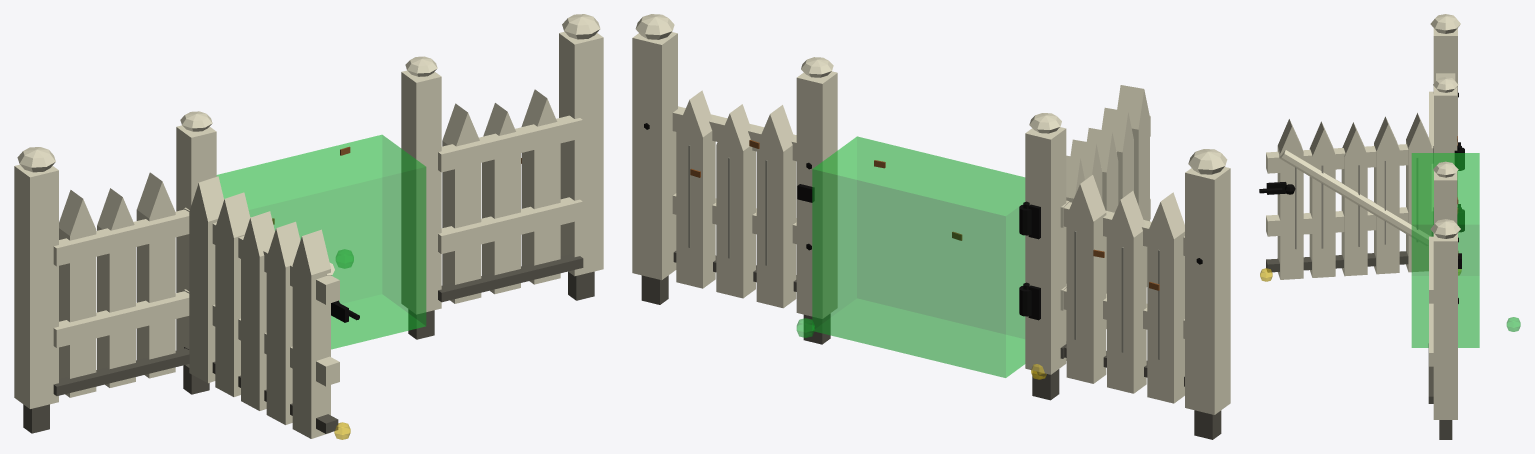
File: modular_picket_fence_panel_open_gate.obj
The picture shows the model from 3 angles, left to right: view 1: azimuth 30°, elevation 25°; view 2: azimuth 150°, elevation 25°; view 3: azimuth 270°, elevation 25°; orthographic projection. The views are drawn at different scales.
Parts seen in each view (by area): view 1: Guide_Clear_Walkthrough_Opening_delete_or_hide, Left_end_square_fence_post, Gate_right_latch_post, Right_end_square_fence_post, Open_gate_Picket_05_rect_board, Open_gate_Picket_01_rect_board, Open_gate_Picket_04_rect_board, Left_fixed_side_panel_Picket_03_rect_board, Open_gate_Picket_02_rect_board, Left_fixed_side_panel_Picket_01_rect_board, Open_gate_Picket_03_rect_board, Gate_left_hinge_post (+28 smaller); view 2: Guide_Clear_Walkthrough_Opening_delete_or_hide, Left_end_square_fence_post, Right_end_square_fence_post, Gate_right_latch_post, Gate_left_hinge_post, Left_fixed_side_panel_Picket_03_rect_board, Right_fixed_side_panel_Picket_01_rect_board, Left_fixed_side_panel_Picket_01_rect_board, Left_fixed_side_panel_Picket_02_rect_board, Right_fixed_side_panel_Picket_03_rect_board, Right_fixed_side_panel_Picket_02_rect_board, Open_gate_Picket_05_rect_board (+20 smaller); view 3: Guide_Clear_Walkthrough_Opening_delete_or_hide, Right_end_square_fence_post, Open_gate_Picket_05_rect_board, Open_gate_Picket_04_rect_board, Open_gate_Picket_02_rect_board, Open_gate_Picket_01_rect_board, Open_gate_Picket_03_rect_board, Open_gate_diagonal_brace_lower_left_to_upper_right, Gate_left_hinge_post, Left_end_square_fence_post, Open_gate_upper_horizontal_rail, Gate_right_latch_post (+14 smaller).
Part boxes in pixels (bbox=[...]): Guide_Clear_Walkthrough_Opening_delete_or_hide: bbox=[216, 135, 426, 349]; Left_end_square_fence_post: bbox=[14, 164, 58, 408]; Gate_right_latch_post: bbox=[401, 70, 441, 314]; Right_end_square_fence_post: bbox=[559, 31, 603, 276]; Open_gate_Picket_05_rect_board: bbox=[292, 265, 330, 438]; Open_gate_Picket_01_rect_board: bbox=[189, 212, 217, 383]; Open_gate_Picket_04_rect_board: bbox=[266, 257, 292, 424]; Left_fixed_side_panel_Picket_03_rect_board: bbox=[136, 210, 175, 378]; Open_gate_Picket_02_rect_board: bbox=[215, 228, 244, 396]; Left_fixed_side_panel_Picket_01_rect_board: bbox=[59, 228, 96, 397]; Open_gate_Picket_03_rect_board: bbox=[241, 247, 266, 410]; Gate_left_hinge_post: bbox=[176, 125, 216, 367]; Guide_Clear_Walkthrough_Opening_delete_or_hide: bbox=[812, 136, 1025, 377]; Left_end_square_fence_post: bbox=[1185, 167, 1230, 414]; Right_end_square_fence_post: bbox=[632, 32, 677, 280]; Gate_right_latch_post: bbox=[796, 71, 837, 318]; Gate_left_hinge_post: bbox=[1025, 127, 1066, 374]; Left_fixed_side_panel_Picket_03_rect_board: bbox=[1066, 213, 1106, 383]; Right_fixed_side_panel_Picket_01_rect_board: bbox=[756, 145, 796, 308]; Left_fixed_side_panel_Picket_01_rect_board: bbox=[1147, 231, 1184, 403]; Left_fixed_side_panel_Picket_02_rect_board: bbox=[1107, 231, 1146, 393]; Right_fixed_side_panel_Picket_03_rect_board: bbox=[676, 131, 715, 288]; Right_fixed_side_panel_Picket_02_rect_board: bbox=[716, 144, 755, 298]; Open_gate_Picket_05_rect_board: bbox=[1132, 118, 1149, 286]; Guide_Clear_Walkthrough_Opening_delete_or_hide: bbox=[1411, 153, 1479, 347]; Right_end_square_fence_post: bbox=[1433, 233, 1457, 419]; Open_gate_Picket_05_rect_board: bbox=[1277, 146, 1303, 279]; Open_gate_Picket_04_rect_board: bbox=[1309, 148, 1335, 277]; Open_gate_Picket_02_rect_board: bbox=[1374, 144, 1399, 274]; Open_gate_Picket_01_rect_board: bbox=[1406, 141, 1431, 272]; Open_gate_Picket_03_rect_board: bbox=[1341, 155, 1367, 276]; Open_gate_diagonal_brace_lower_left_to_upper_right: bbox=[1279, 149, 1430, 245]; Gate_left_hinge_post: bbox=[1434, 86, 1457, 167]; Left_end_square_fence_post: bbox=[1433, 28, 1457, 206]; Open_gate_upper_horizontal_rail: bbox=[1266, 142, 1433, 173]; Gate_right_latch_post: bbox=[1434, 171, 1457, 224].
Size of what is drawn, in the model's own units: 3.19 by 1.47 by 1.62.
